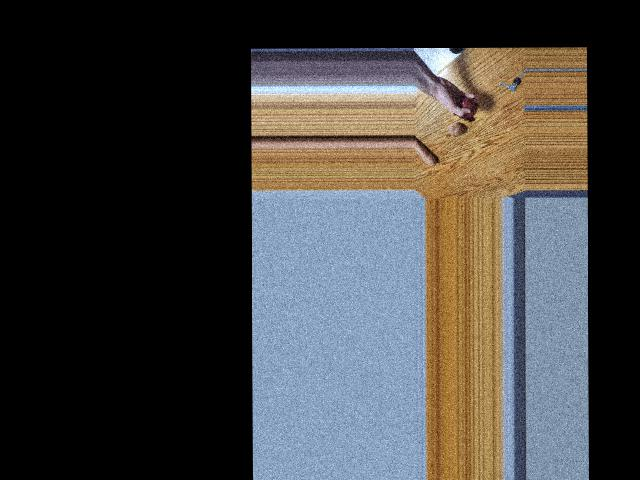onion: (460, 98, 477, 117)
